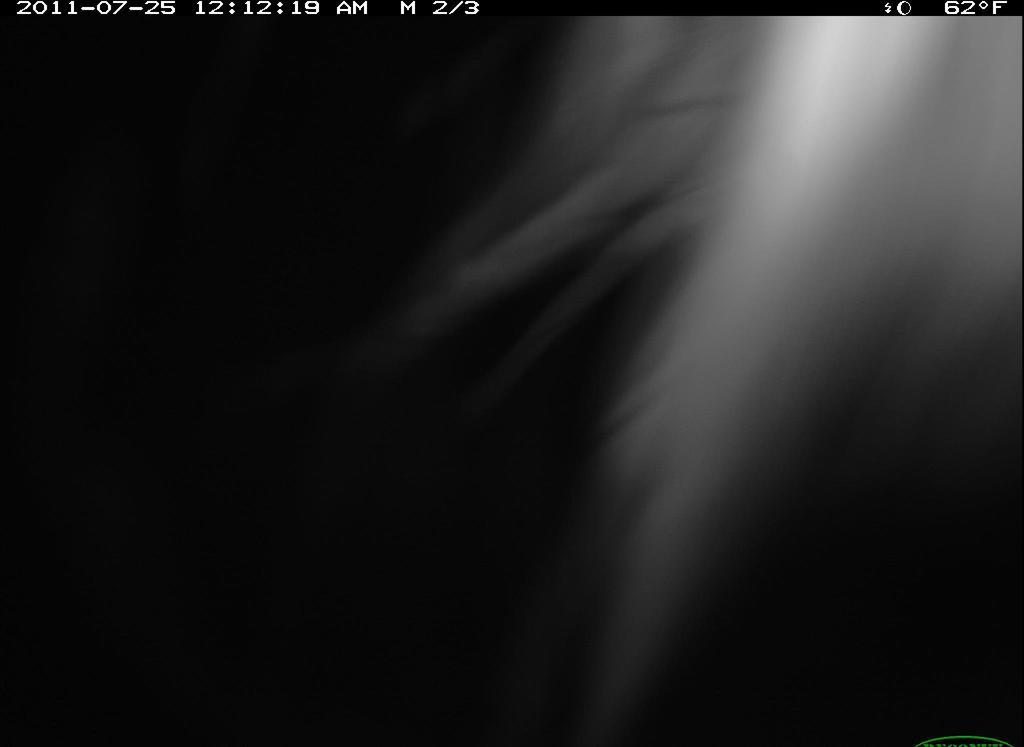raccoon: (349, 18, 1018, 745)
